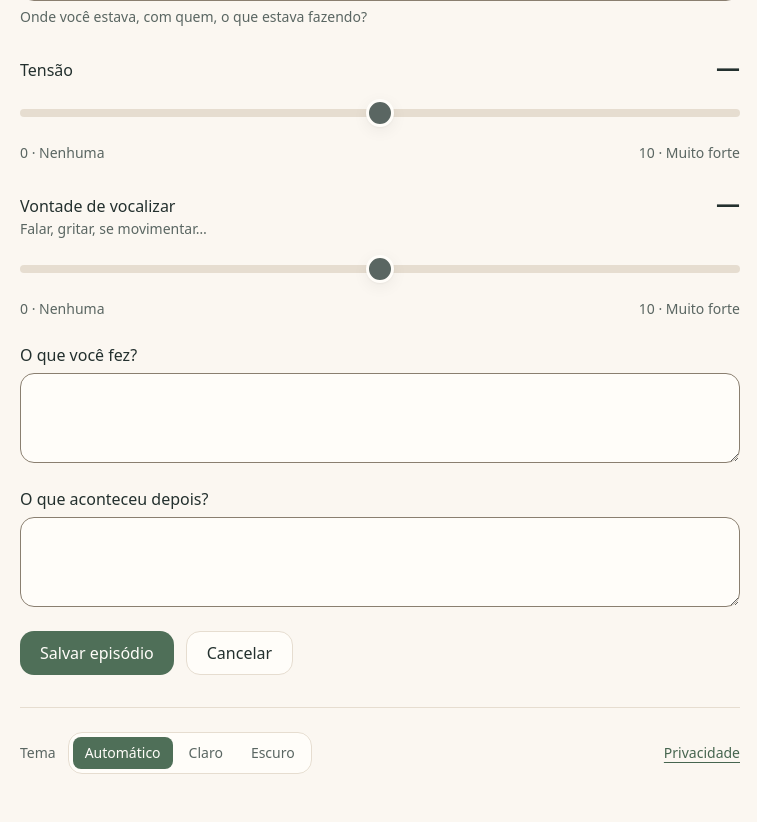
Test: /tensao/novo › tudo é obrigatório, menos a hora: sem preencher, nada é enviado
(page scrolled)
Click the button "Salvar episódio".
click(97, 653)  # box [20,631,174,675]
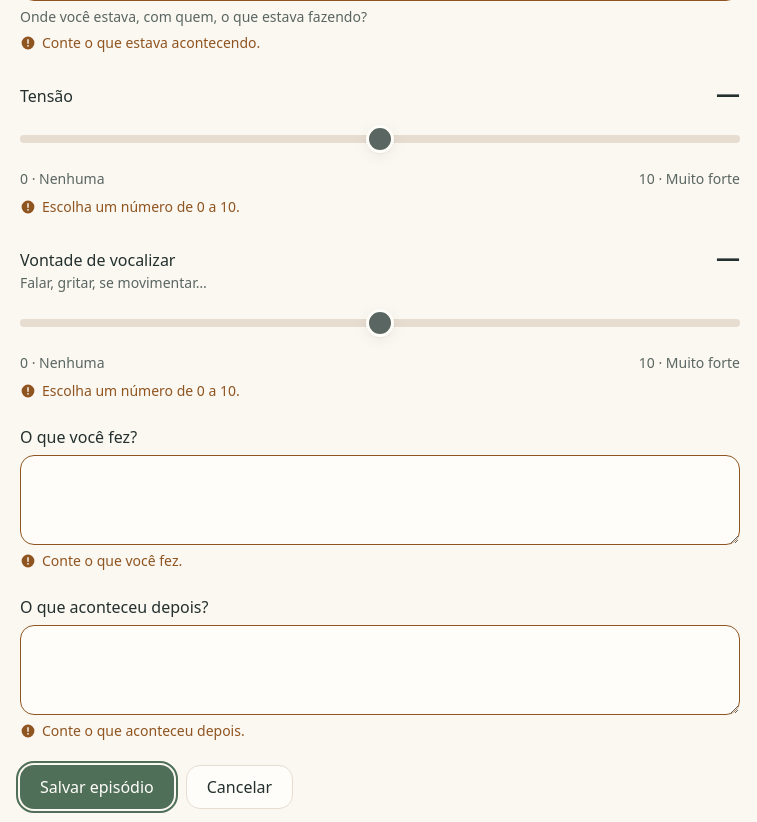
Result: the text "Conte o que estava acontecendo." is shown at [42,33,260,53]
Result: the text "Escolha um número de 0 a 10." is shown 2 times at [42,197,240,217]; [42,381,240,401]
Result: the text "Conte o que você fez." is shown at [42,551,182,571]
